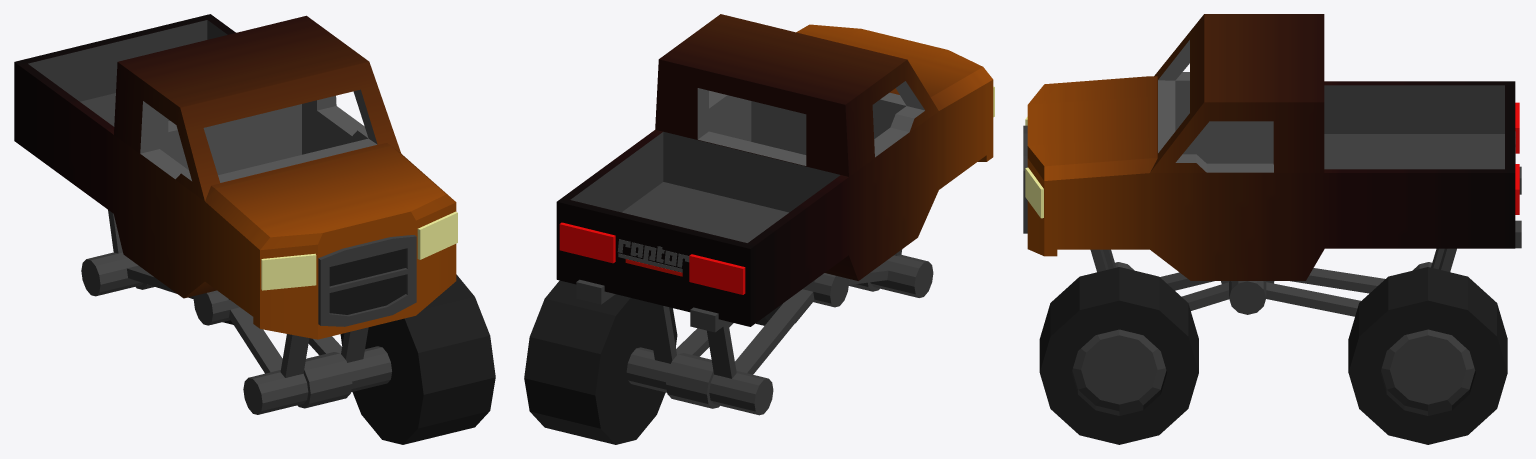
Rendered from monster.fbx.
The picture shows the model from 3 angles, left to right: view 1: azimuth 30°, elevation 25°; view 2: azimuth 150°, elevation 25°; view 3: azimuth 270°, elevation 25°; orthographic projection. The views are drawn at different scales.
Parts seen in each view (by area): view 1: Cube, Cylinder.002; view 2: Cube, Cylinder.000; view 3: Cube, Cylinder.002, Cylinder.000.
Part boxes in pixels (x1=…): Cube: x1=14, y1=14, x2=457, y2=414; Cylinder.002: x1=340, y1=274, x2=495, y2=444; Cube: x1=556, y1=14, x2=994, y2=415; Cylinder.000: x1=524, y1=280, x2=677, y2=444; Cube: x1=1023, y1=14, x2=1521, y2=316; Cylinder.002: x1=1039, y1=267, x2=1198, y2=444; Cylinder.000: x1=1348, y1=267, x2=1507, y2=444.
Size of the model in its own units: 291 by 404 by 563.
Materials: 5 (2 with a texture image).
